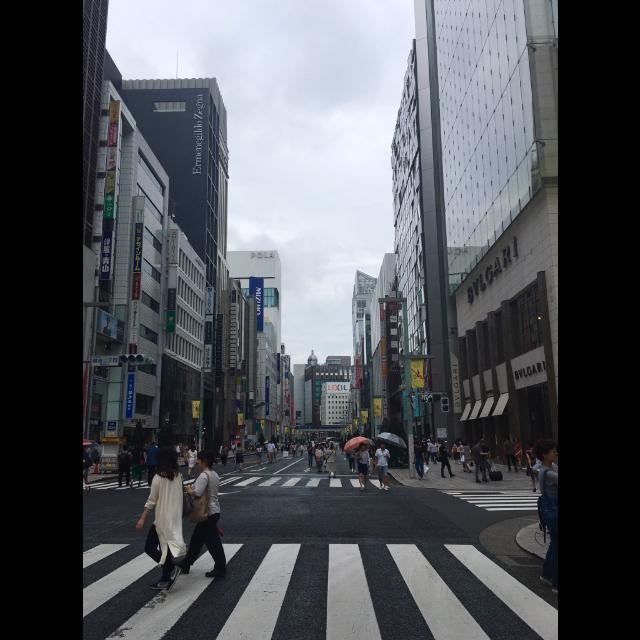head: (156, 446, 178, 472), (196, 450, 214, 470), (380, 442, 386, 450), (360, 444, 366, 452), (528, 442, 534, 450), (122, 444, 128, 452), (416, 444, 422, 450), (440, 441, 446, 447), (475, 440, 481, 446), (190, 446, 196, 452), (479, 439, 485, 445), (514, 438, 518, 444), (134, 444, 138, 450), (150, 442, 156, 446), (506, 436, 510, 440), (463, 442, 467, 446), (329, 446, 333, 450), (308, 442, 312, 446), (269, 441, 273, 445), (237, 444, 241, 448), (223, 444, 227, 448), (318, 446, 320, 450), (351, 450, 354, 452), (220, 444, 223, 446), (258, 446, 260, 448)
person: (132, 444, 196, 594), (170, 447, 228, 579), (474, 437, 504, 483), (524, 440, 544, 494), (373, 440, 391, 492), (470, 438, 490, 484), (353, 442, 371, 492), (115, 444, 134, 490), (144, 440, 162, 488), (128, 443, 146, 489), (434, 439, 454, 479), (411, 442, 429, 482), (501, 434, 519, 474), (322, 444, 338, 480), (182, 445, 198, 481), (458, 441, 474, 474), (509, 435, 523, 471), (345, 444, 357, 474), (312, 444, 324, 474), (232, 442, 244, 472), (305, 442, 315, 468), (266, 439, 276, 465), (219, 443, 229, 467), (254, 444, 264, 466), (218, 442, 226, 466)
